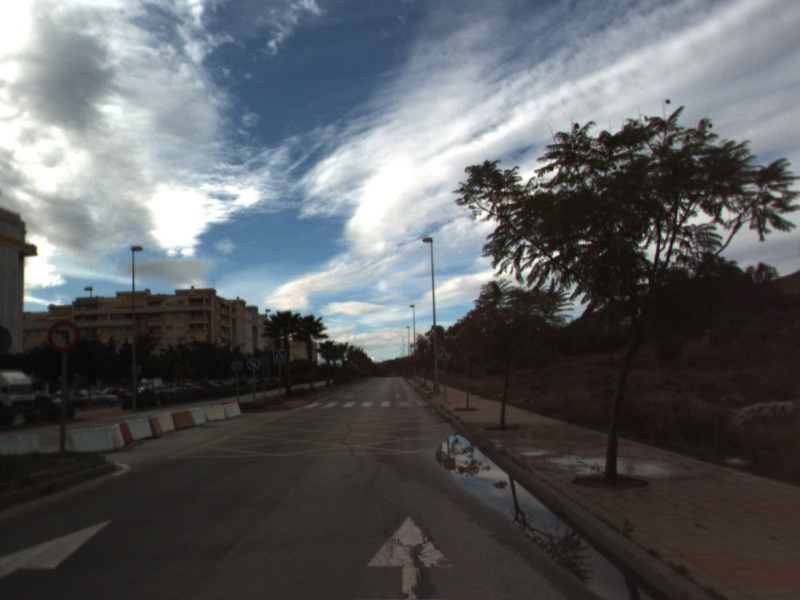STRAIGHT: (364, 513, 458, 600), (1, 517, 115, 580)
